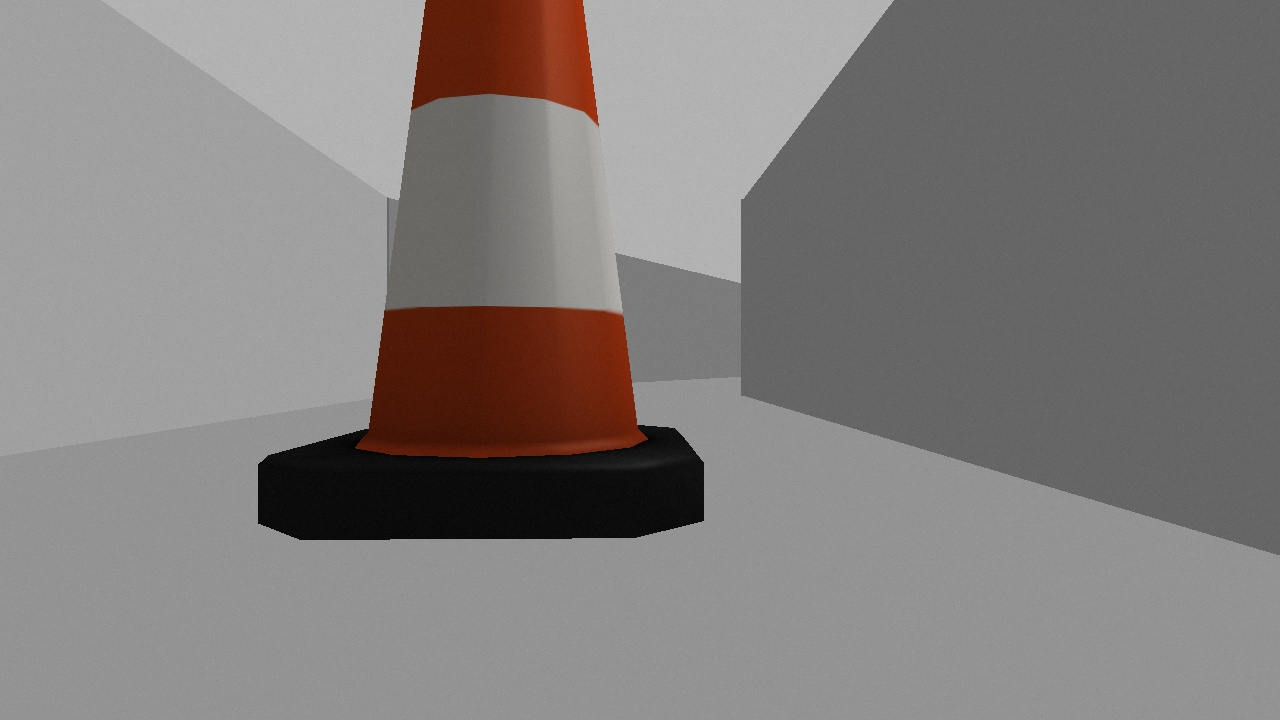barricade: (256, 1, 703, 541)
